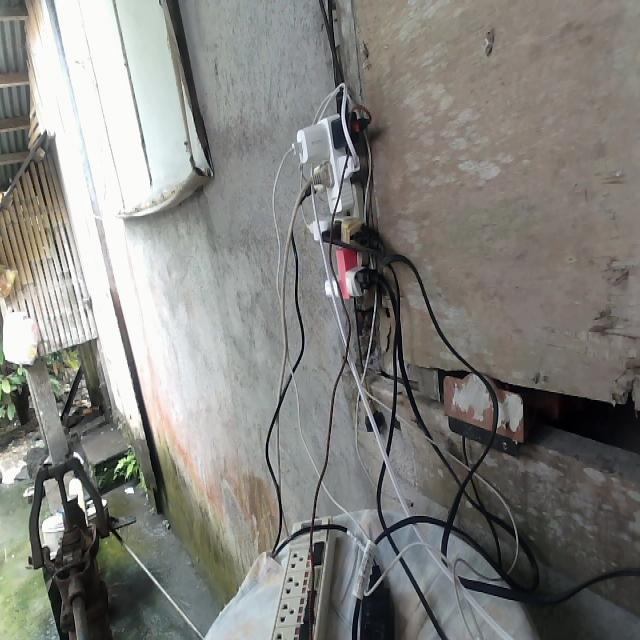-: (289, 106, 381, 302)
